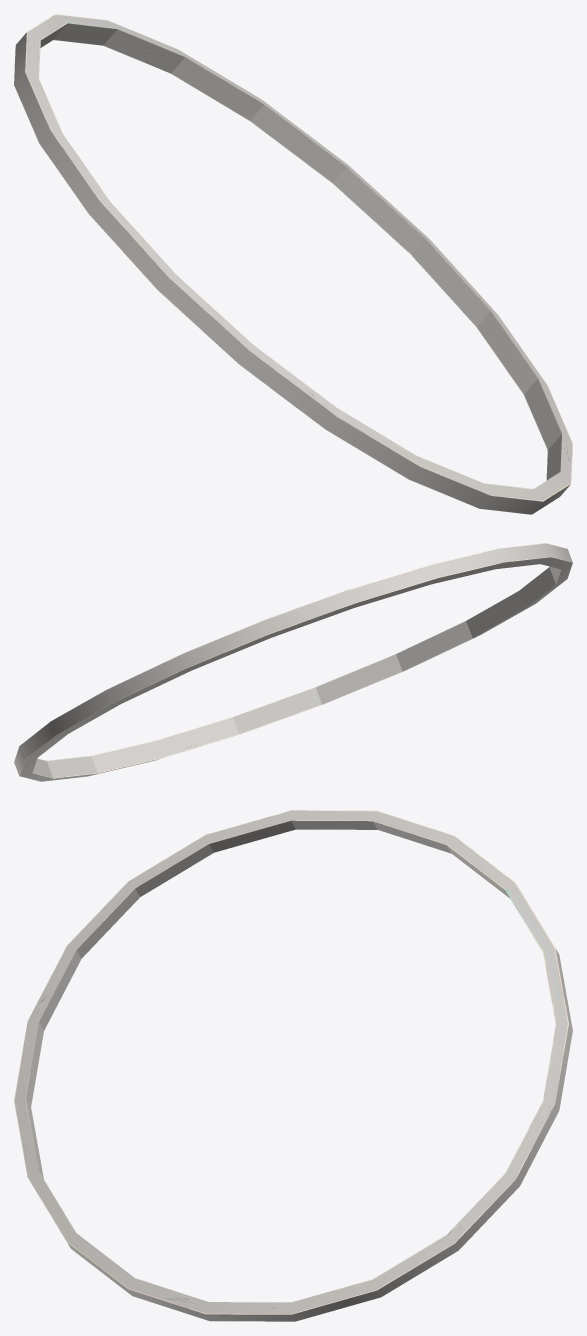
File: big_InnerRing004CelestialPrism_lowPoly.glb
The picture shows the model from 3 angles, top to bottom: view 1: azimuth 30°, elevation 25°; view 2: azimuth 150°, elevation 25°; view 3: azimuth 270°, elevation 25°; orthographic projection. The views are drawn at different scales.
Visible parts, largest first — view 1: polySurface1; view 2: polySurface1; view 3: polySurface1.
Part boxes in pixels (box(x1,y1,x2,y2)): polySurface1: box(14, 14, 572, 514); polySurface1: box(14, 543, 572, 781); polySurface1: box(14, 810, 572, 1321).
Size of the model in its own units: 5.23 by 4.05 by 6.07.
Materials: 1 (1 with a texture image).
